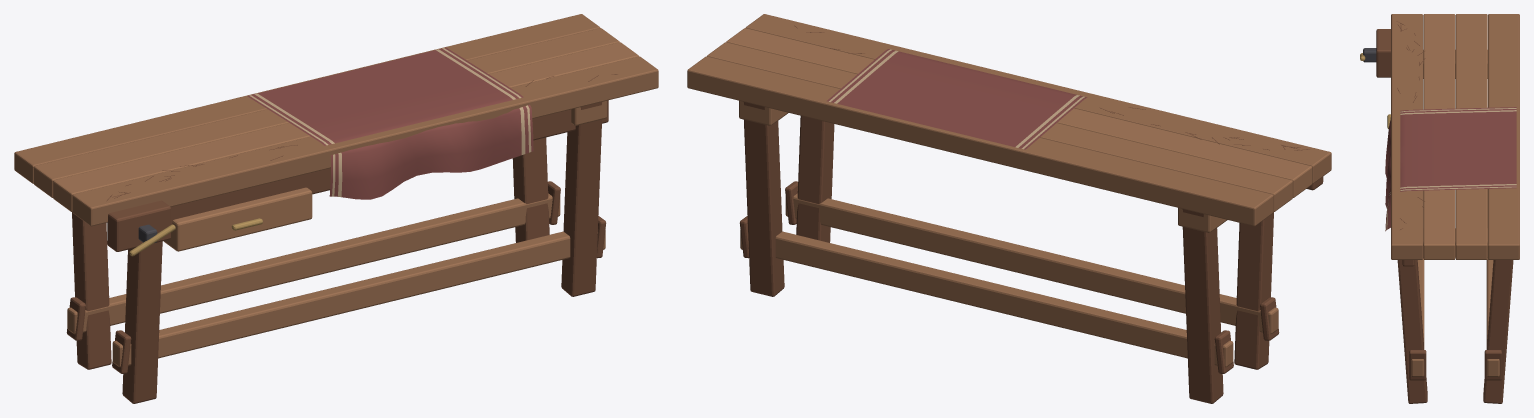
Rendered from joiners-bench.glb.
The picture shows the model from 3 angles, left to right: view 1: azimuth 30°, elevation 25°; view 2: azimuth 150°, elevation 25°; view 3: azimuth 270°, elevation 25°; orthographic projection. The views are drawn at different scales.
Parts seen in each view (by area): view 1: Carver workbench; view 2: Carver workbench; view 3: Carver workbench.
Boxes of the visible parts, x1,y1,x2,y2 form: Carver workbench: (14, 14, 658, 403); Carver workbench: (687, 14, 1331, 403); Carver workbench: (1360, 14, 1519, 403).
Size of the model in its own units: 5.36 by 1.97 by 1.57.
